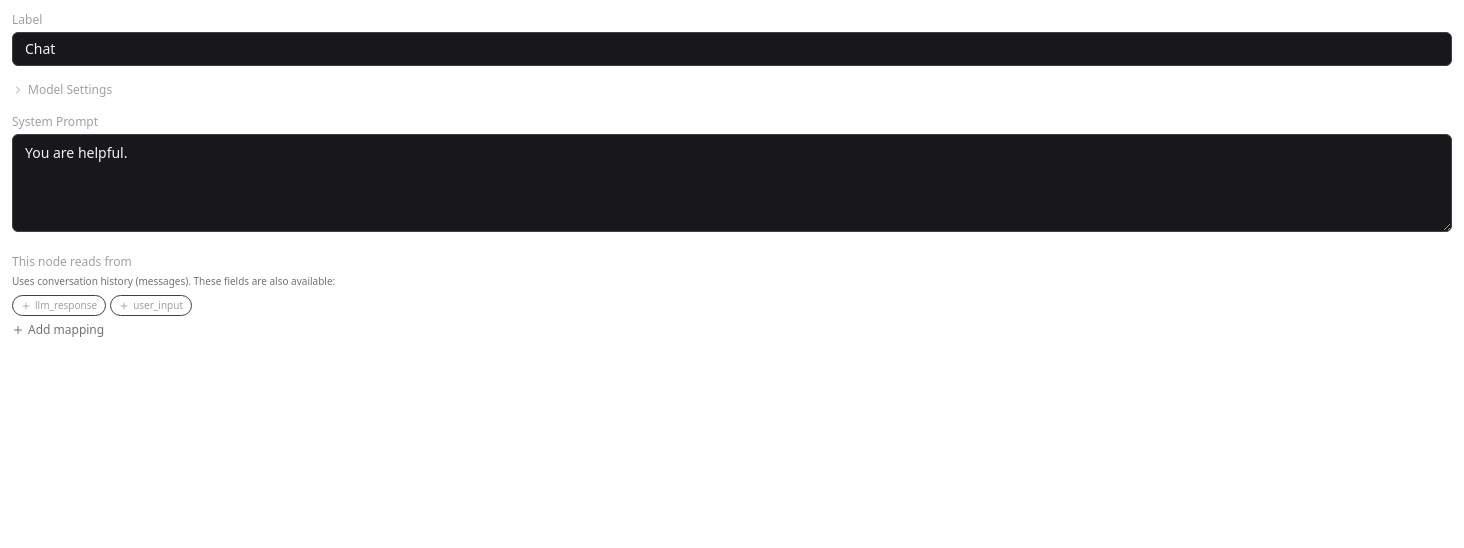
Test case: LLMNodeConfig › model settings section is collapsible
Expected: the text "openai" is not shown
// Click to expand
Click the button "Model Settings" at [62, 90], box [12,82,112,98]
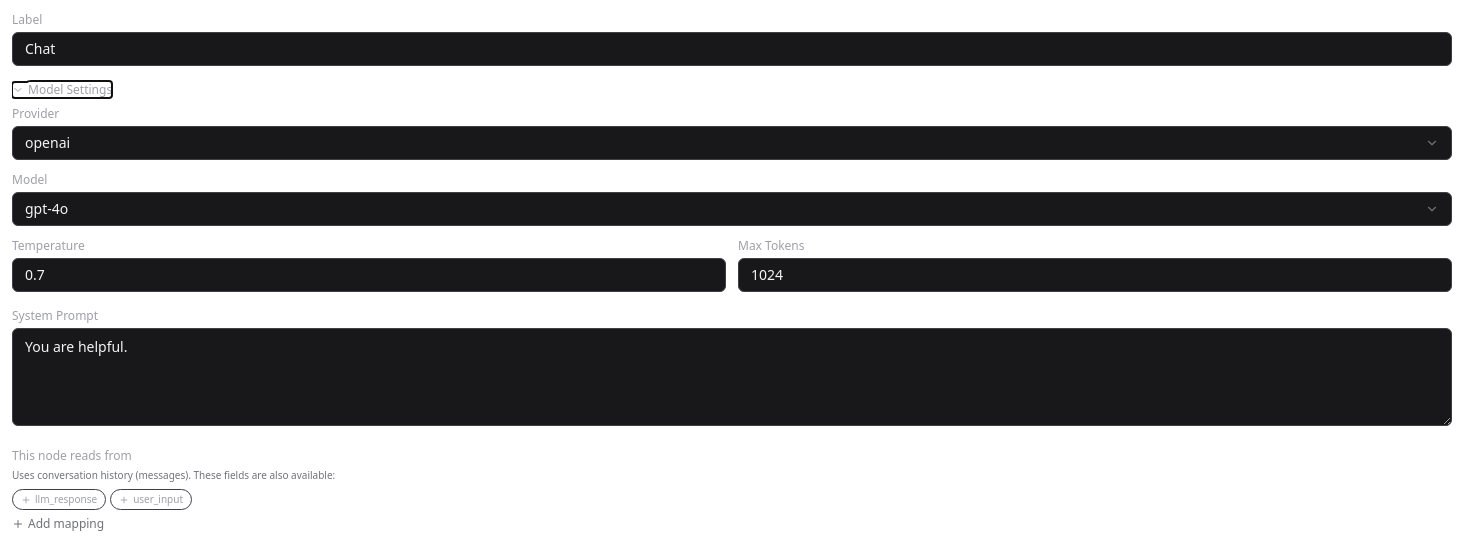
Expected: the text "openai" is shown, [25,133,70,153]
Expected: the text "gpt-4o" is shown, [25,199,68,219]
